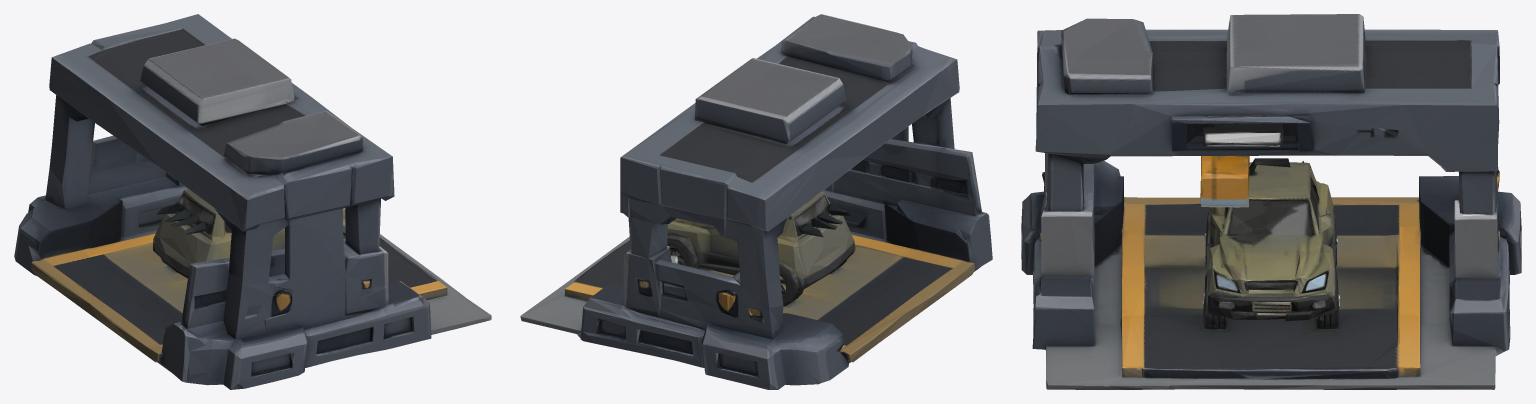
The model's file is LightVehicle.glb.
3 renders of one model, left to right at view 1: azimuth 30°, elevation 25°; view 2: azimuth 150°, elevation 25°; view 3: azimuth 270°, elevation 25°, orthographic. The views are drawn at different scales.
Visible parts, largest first — view 1: tripo_node_d33099a2-a38e-4b02-8289-426d46d86e42; view 2: tripo_node_d33099a2-a38e-4b02-8289-426d46d86e42; view 3: tripo_node_d33099a2-a38e-4b02-8289-426d46d86e42.
Part boxes in pixels (x1,y1,x2,y2): tripo_node_d33099a2-a38e-4b02-8289-426d46d86e42: (14, 14, 491, 389); tripo_node_d33099a2-a38e-4b02-8289-426d46d86e42: (520, 14, 992, 389); tripo_node_d33099a2-a38e-4b02-8289-426d46d86e42: (1021, 14, 1521, 389).
Size of the model in its own units: 0.8087 by 0.5512 by 0.9789.
Materials: 1 (1 with a texture image).
